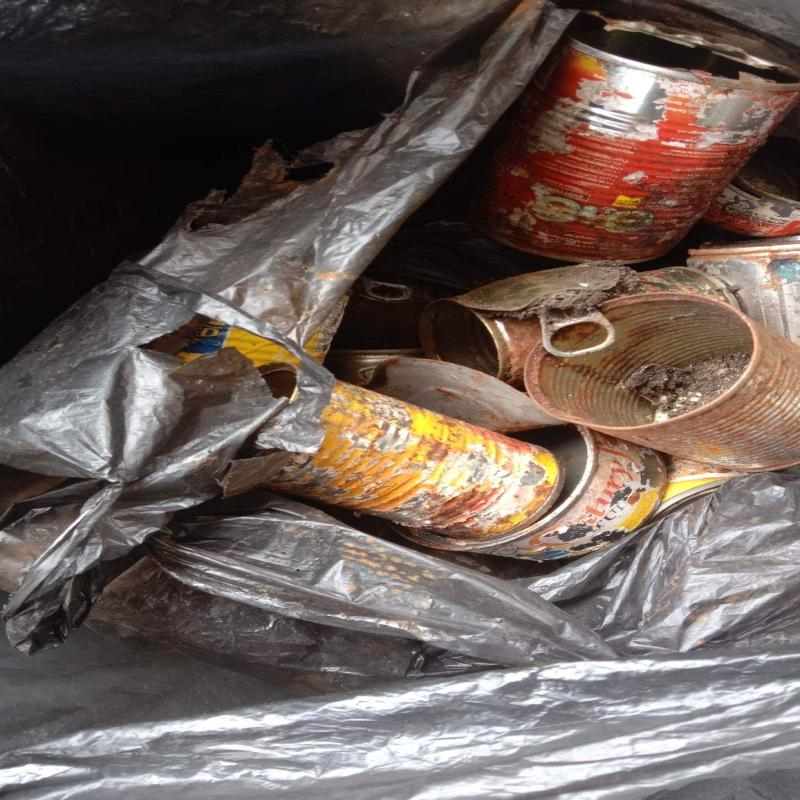aluminum: (431, 23, 800, 264), (226, 380, 566, 552), (522, 294, 800, 474), (420, 261, 716, 397), (390, 424, 669, 562), (687, 238, 800, 345), (697, 175, 800, 246)
